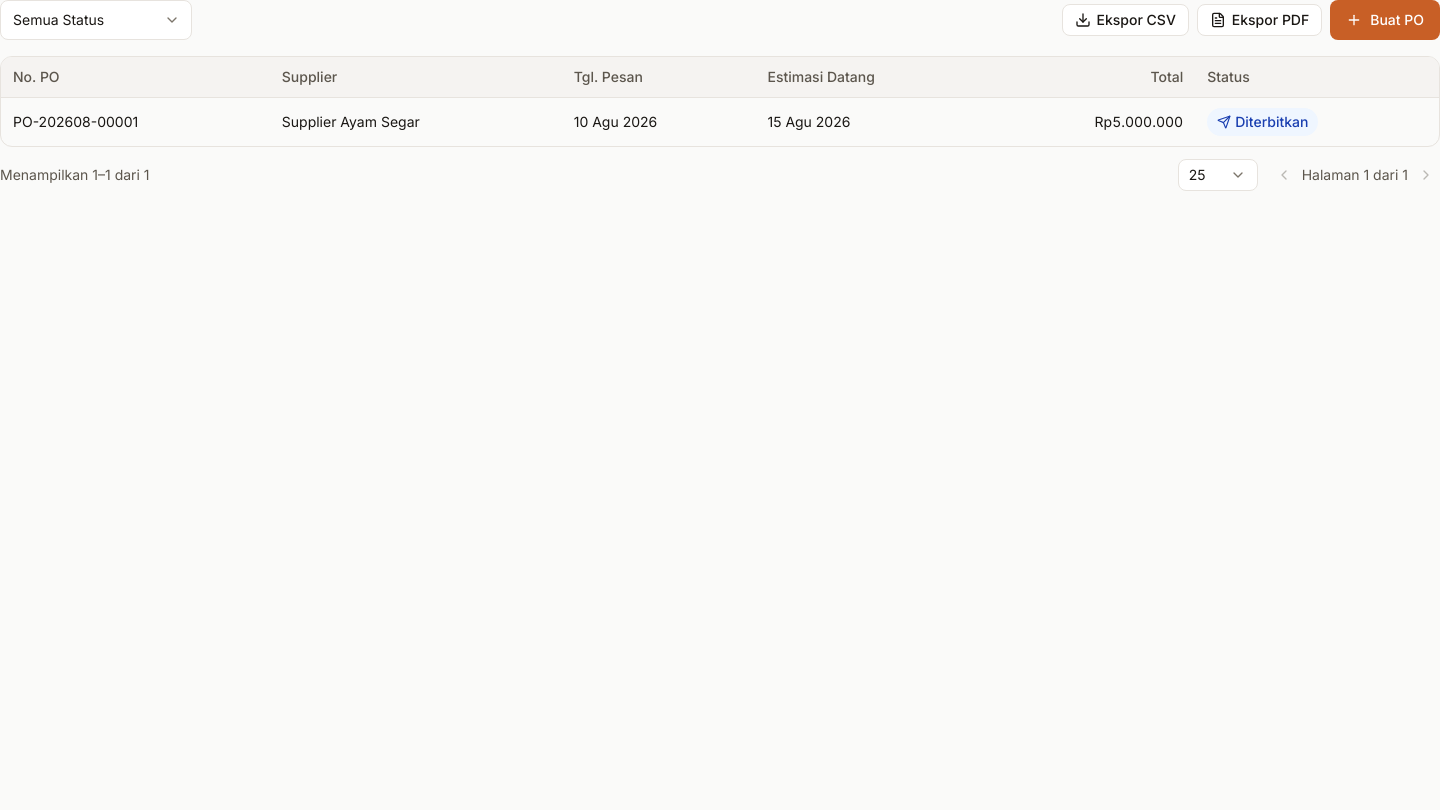
Test case: PurchaseOrdersPanel — status ladder + D-20 price lock › hides the payment action once nothing is left to claim, so it cannot open a form that can only fail
Click the text "PO-202608-00001".
click(135, 122)  # box [1,98,270,146]
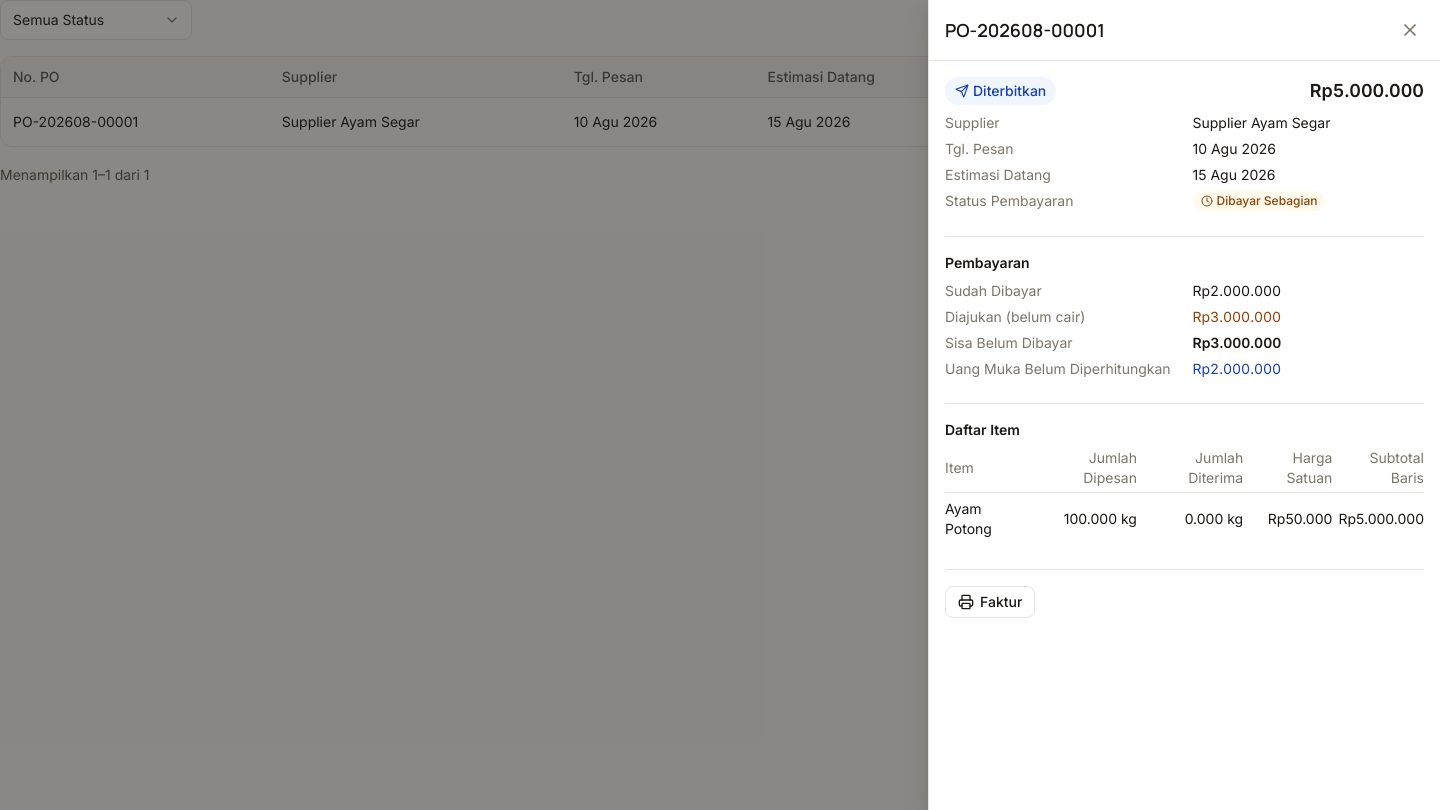
Expected: the text "Dibayar Sebagian" is shown, [1192,191,1326,211]
